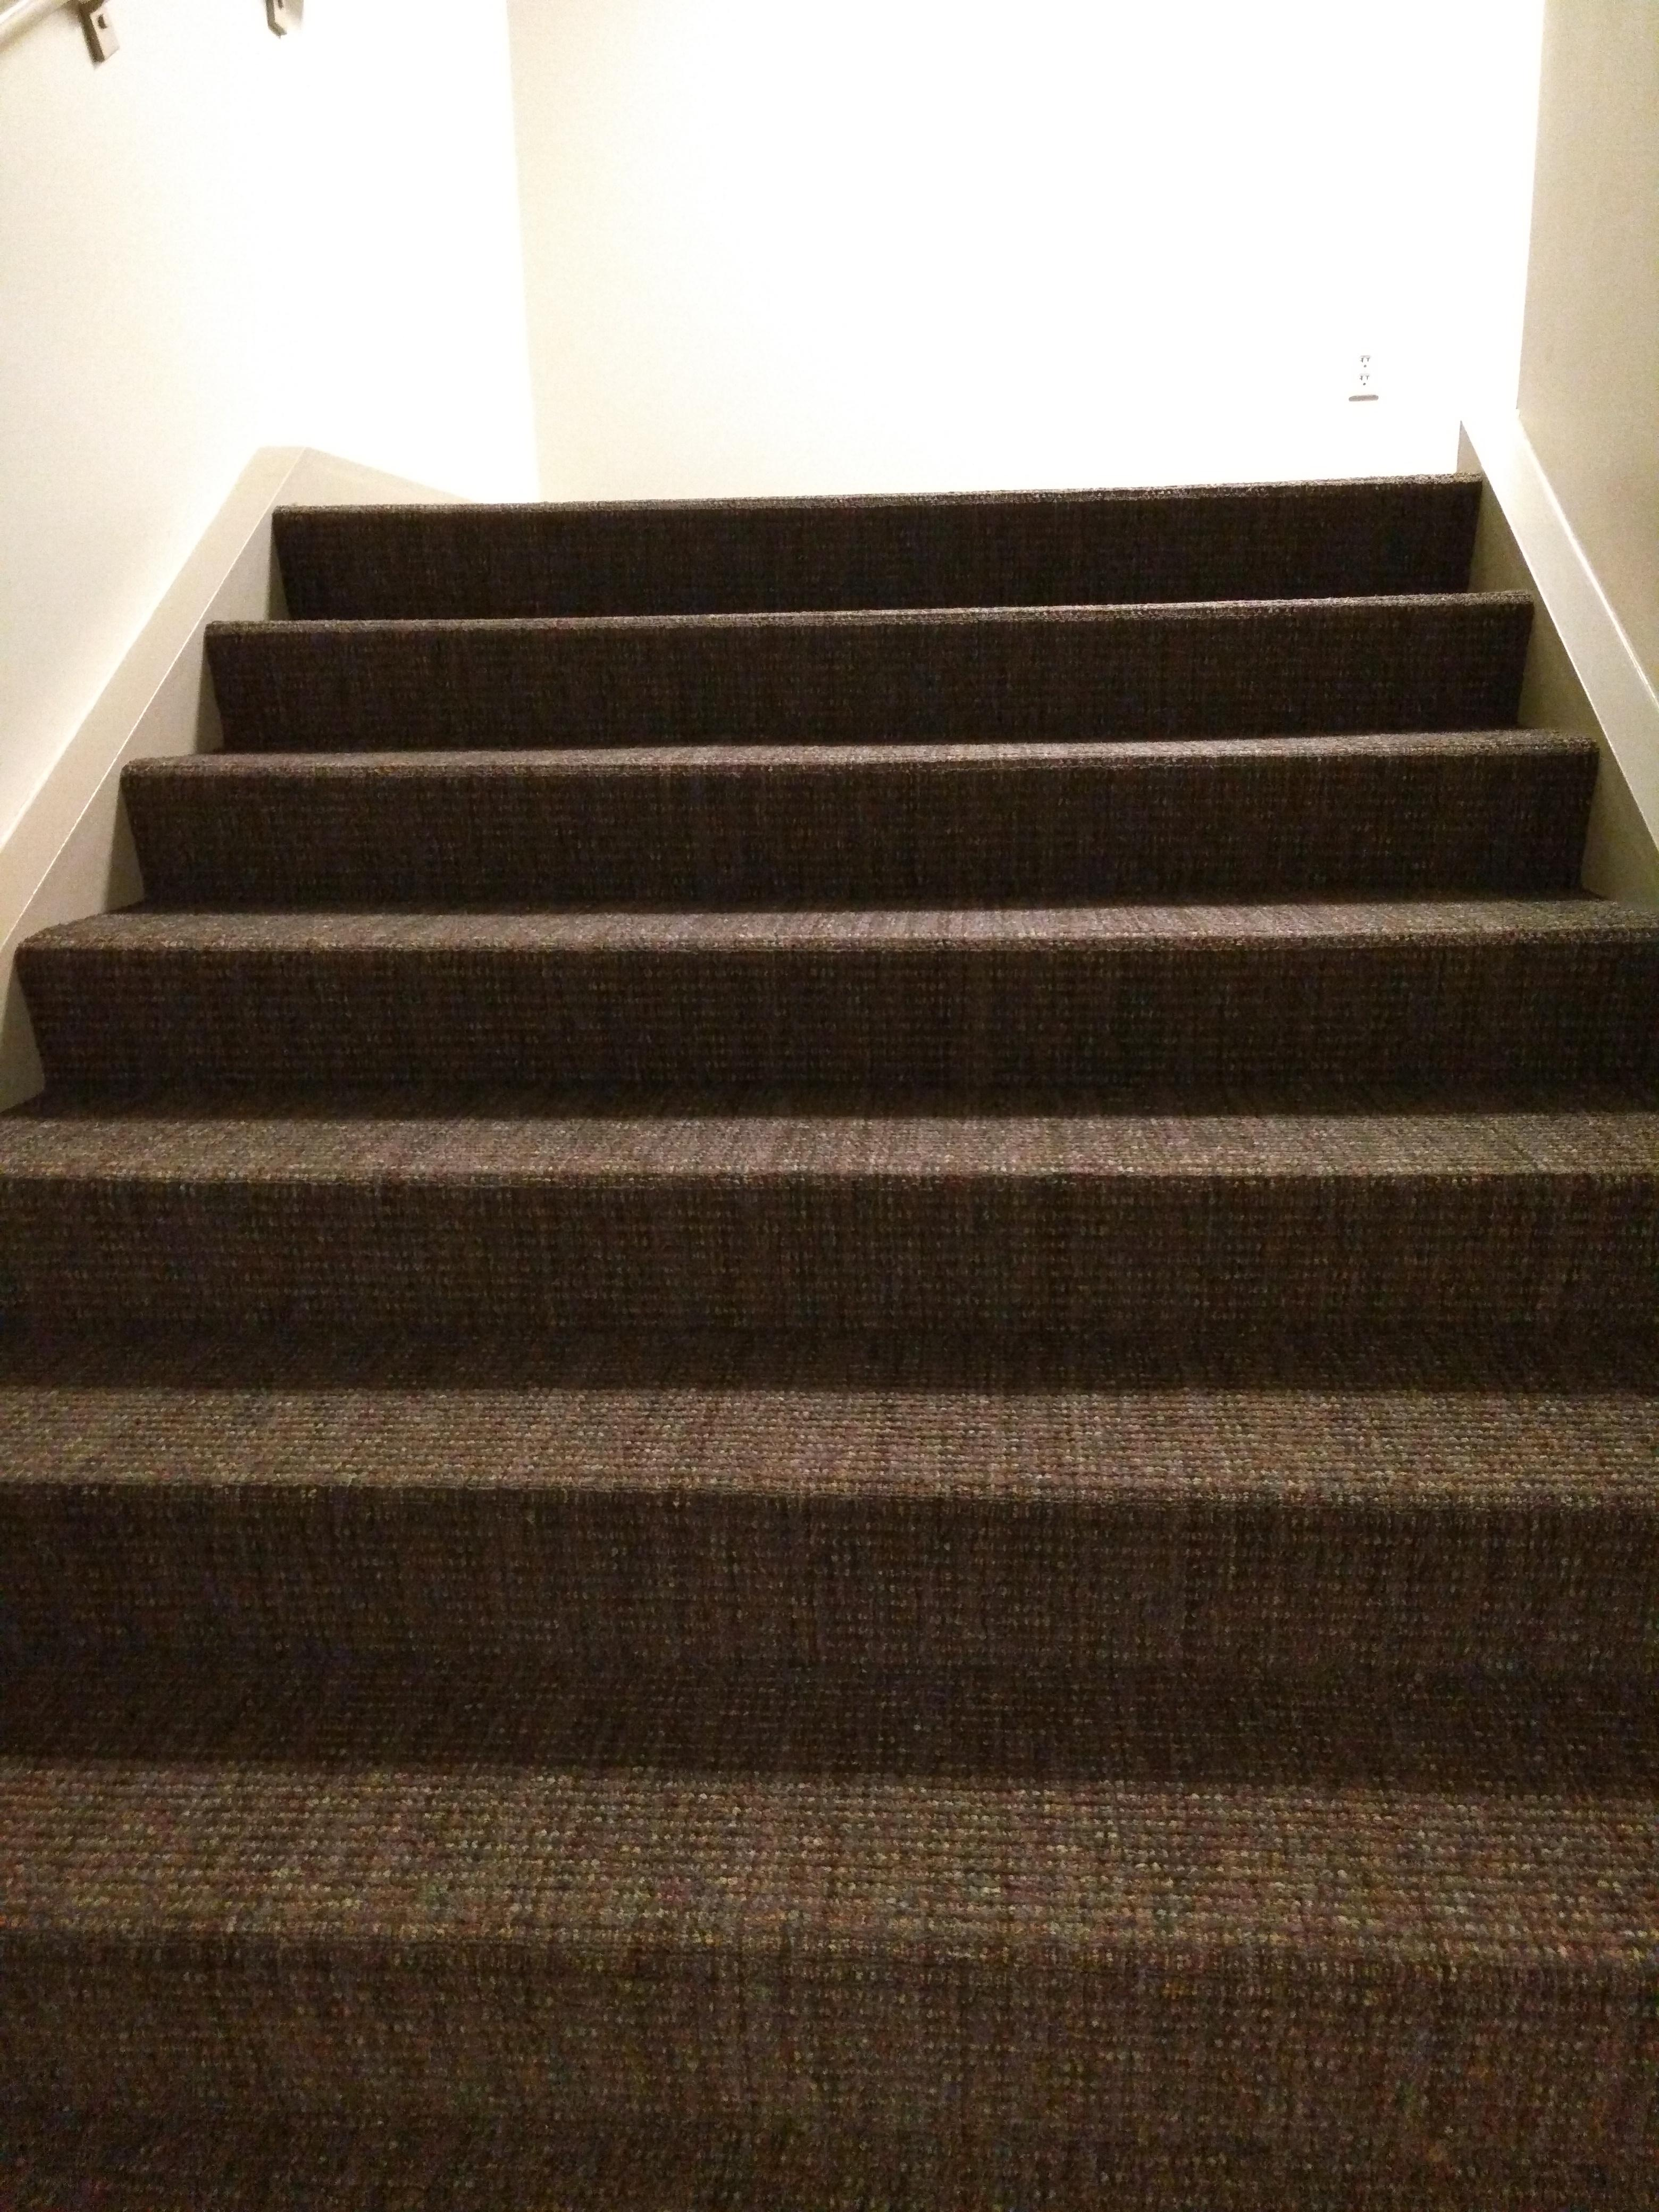stairs_up: (61, 456, 1586, 2038)
